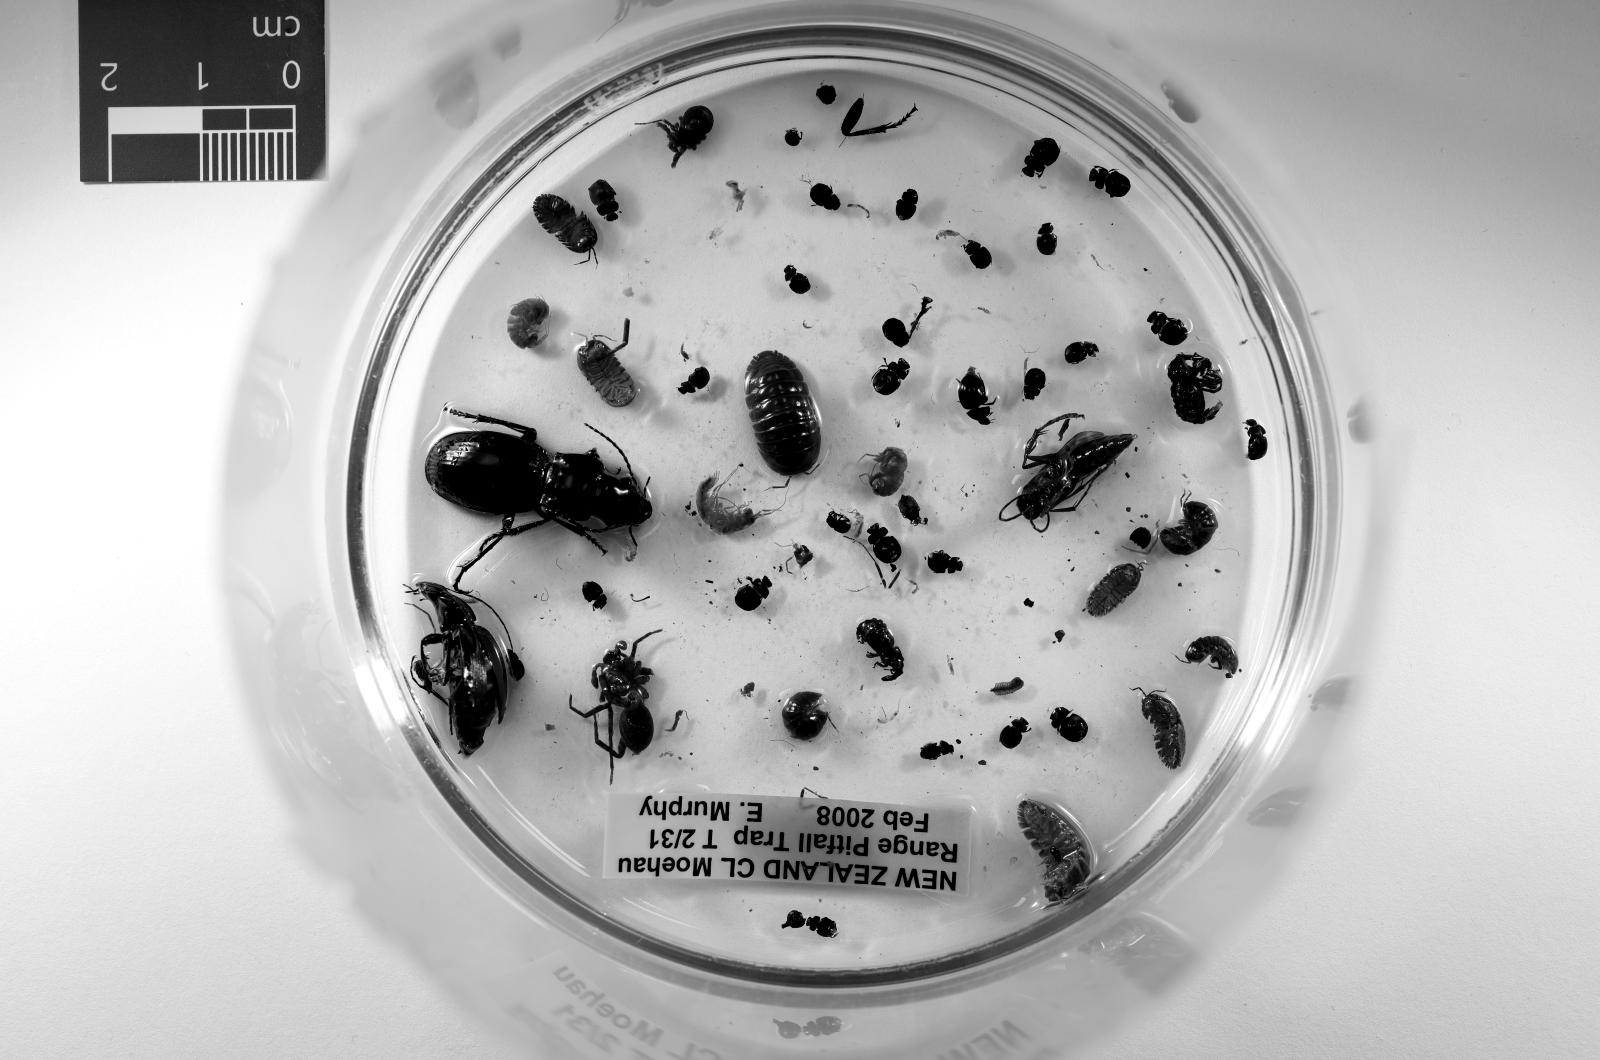amphipoda: (697, 476, 775, 535), (506, 298, 550, 348), (866, 447, 906, 497)
araneae: (569, 640, 653, 783)
carabidae: (425, 409, 653, 571), (409, 581, 510, 757)
coleoptera: (1168, 354, 1222, 426), (856, 618, 903, 680), (957, 367, 991, 426), (1022, 137, 1060, 177), (1088, 164, 1132, 199), (1147, 310, 1191, 344), (872, 357, 909, 394), (869, 525, 903, 565), (734, 577, 772, 612), (1050, 707, 1088, 742), (588, 180, 618, 220), (896, 493, 928, 525), (1244, 419, 1269, 459), (881, 317, 909, 348), (809, 183, 841, 211), (678, 367, 710, 394), (1000, 717, 1028, 749), (1022, 367, 1047, 401), (928, 552, 963, 575), (966, 239, 991, 270), (784, 264, 809, 295), (1065, 342, 1100, 363), (825, 509, 853, 535), (896, 189, 919, 220), (807, 916, 837, 938), (582, 581, 607, 608), (919, 742, 953, 761), (1037, 224, 1056, 254), (506, 649, 525, 680)
collembola: (850, 509, 862, 541), (934, 230, 959, 239)
hymenoptera: (1012, 413, 1134, 531)
isopoda: (744, 351, 822, 476), (1018, 801, 1090, 900), (531, 195, 597, 260), (575, 338, 637, 407), (1138, 690, 1185, 770), (1159, 500, 1219, 556), (1084, 562, 1141, 618), (782, 692, 828, 742), (1185, 636, 1237, 680), (618, 319, 631, 348)
opiliones: (647, 105, 713, 168)
